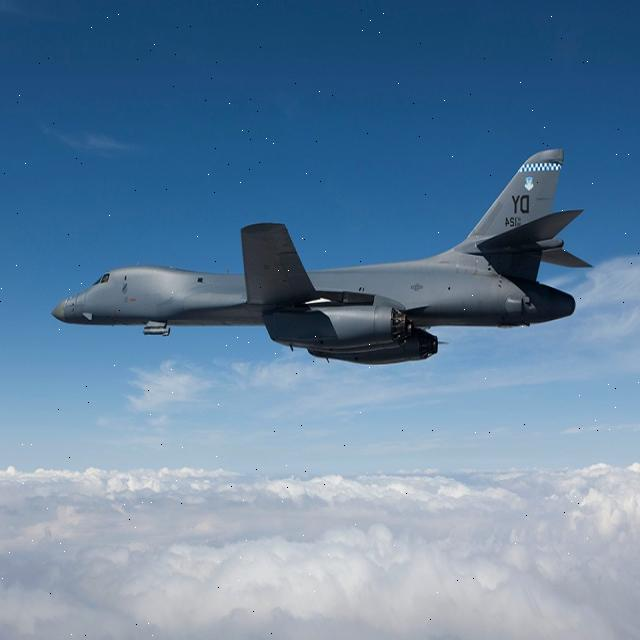B1: (21, 125, 604, 423)
